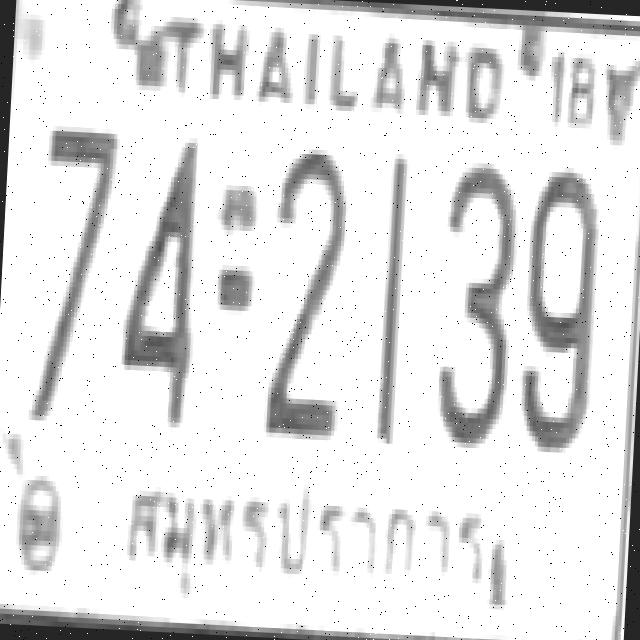1: (369, 150, 409, 447)
2: (260, 142, 349, 436)
3: (431, 156, 517, 444)
4: (114, 130, 202, 423)
7: (25, 120, 118, 424)
9: (514, 161, 600, 449)
SamutPrakan: (111, 464, 504, 610)
